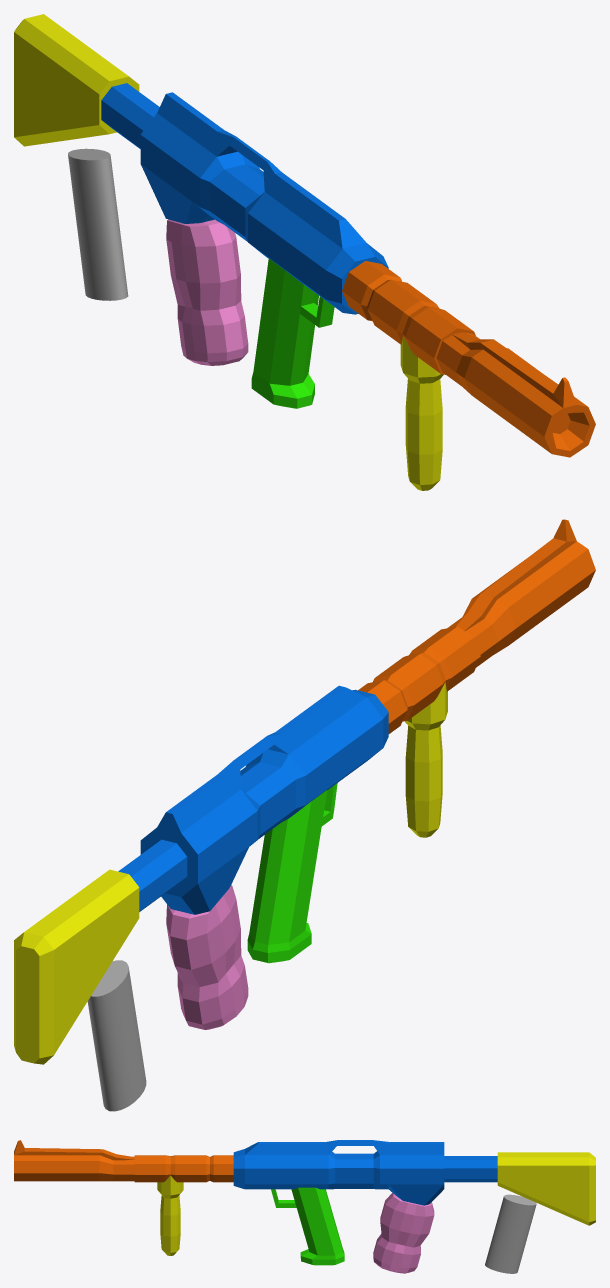
File: Rifle_Escaparate.fbx
The picture shows the model from 3 angles, top to bottom: view 1: azimuth 30°, elevation 25°; view 2: azimuth 150°, elevation 25°; view 3: azimuth 270°, elevation 25°; orthographic projection. The views are drawn at different scales.
Visible parts, largest first — view 1: polySurface16, polySurface18, polySurface13, polySurface11, polySurface17, pCylinder1, polySurface14, polySurface15; view 2: polySurface16, polySurface18, polySurface17, polySurface13, polySurface11, pCylinder1, polySurface14, polySurface15; view 3: polySurface16, polySurface18, polySurface13, polySurface11, polySurface17, polySurface14, pCylinder1, polySurface15.
Boxes of the visible parts, x1,y1,x2,y2 form: polySurface16: (101,83,388,314); polySurface18: (14,14,139,146); polySurface13: (436,332,595,457); polySurface11: (166,219,248,365); polySurface17: (251,258,334,408); pCylinder1: (68,148,128,300); polySurface14: (342,261,475,374); polySurface15: (400,335,443,490); polySurface16: (118,685,388,914); polySurface18: (14,869,139,1064); polySurface17: (247,783,337,963); polySurface13: (447,519,595,667); polySurface11: (166,885,248,1029); pCylinder1: (87,960,146,1111); polySurface14: (358,626,480,733); polySurface15: (405,682,447,837); polySurface16: (233,1140,497,1205); polySurface18: (497,1152,595,1225); polySurface13: (14,1140,134,1181); polySurface11: (373,1193,434,1273); polySurface17: (271,1187,344,1265); polySurface14: (134,1155,233,1182); pCylinder1: (485,1194,536,1273); polySurface15: (157,1175,183,1255).
Size of the model in its own units: 118 by 490 by 1928.
